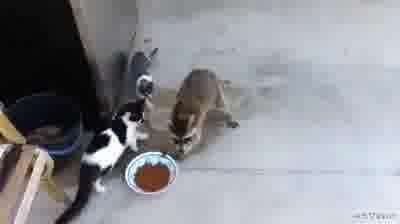raccoon: (167, 67, 242, 158)
